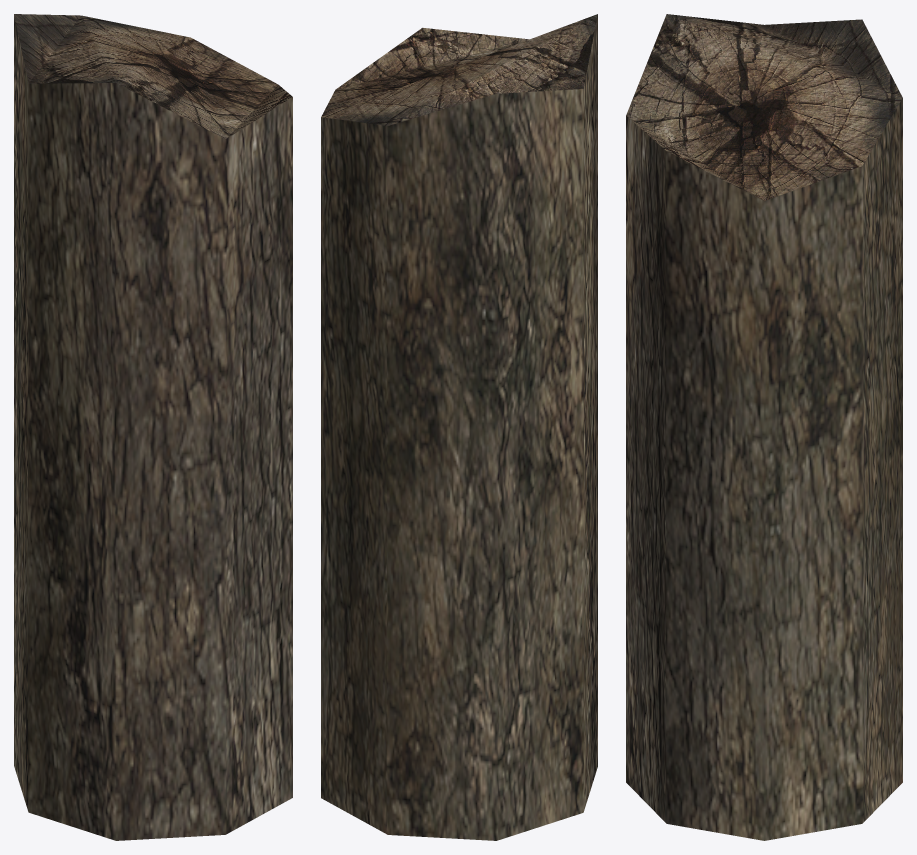
File: woodenPost04.FBX
3 views of the same model, side by side, from view 1: azimuth 30°, elevation 25°; view 2: azimuth 150°, elevation 25°; view 3: azimuth 270°, elevation 25° (orthographic). The views are drawn at different scales.
Visible parts, largest first — view 1: wooden_fence_pole_broken2; view 2: wooden_fence_pole_broken2; view 3: wooden_fence_pole_broken2.
Boxes of the visible parts, bbox=[...] form: wooden_fence_pole_broken2: bbox=[14, 14, 292, 840]; wooden_fence_pole_broken2: bbox=[321, 14, 597, 840]; wooden_fence_pole_broken2: bbox=[626, 14, 902, 840].
Bounding box in the file's own units: 28.6 × 82.92 × 28.6.
